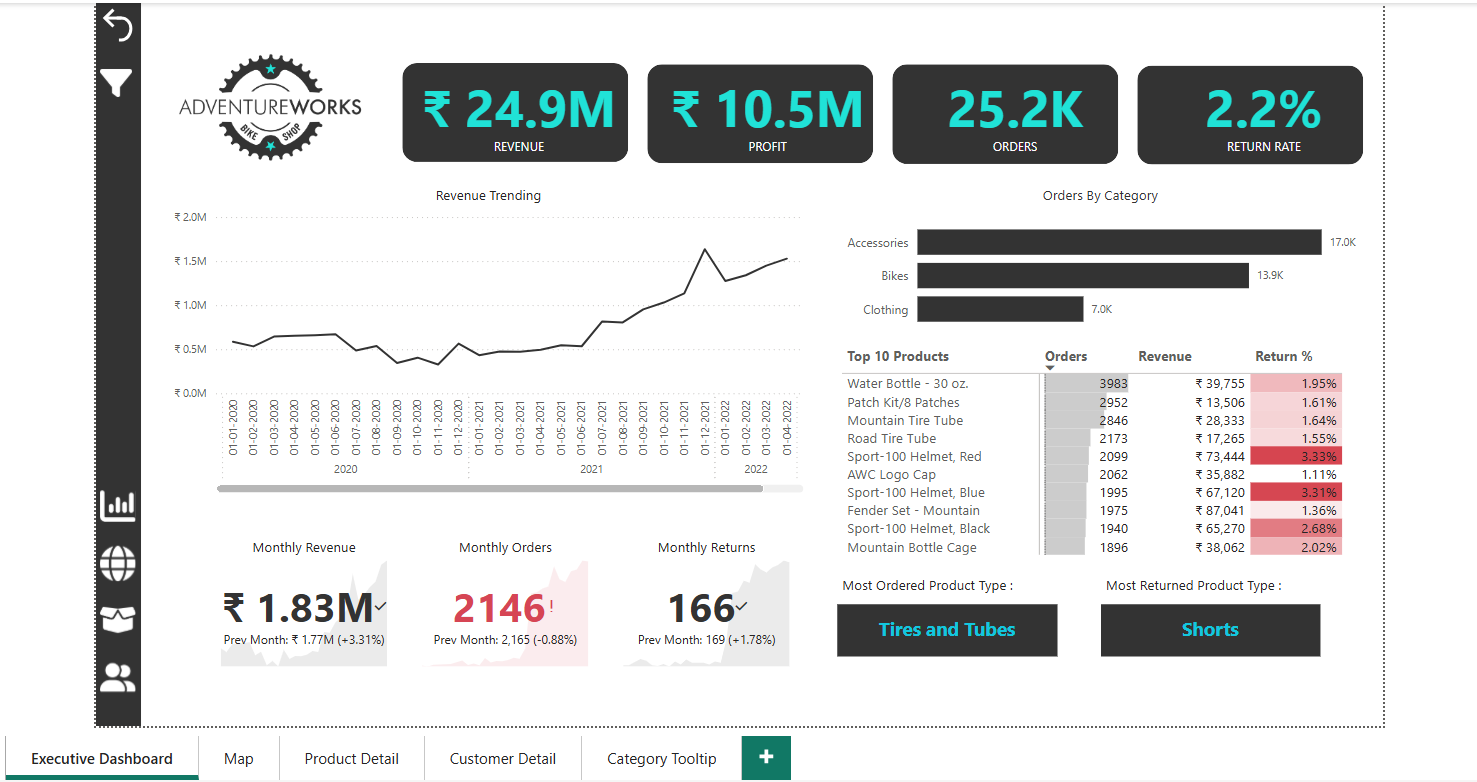

The dashboard page shown, as its layout file describes it:
{"tool":"powerbi","page":{"name":"Executive Dashboard","canvas":[1280,720],"ordinal":0},"visuals":[{"type":"card","fields":{"Values":["Measure Table.Total profit"]},"box":[550.9,38.8,235,142.5],"z":0,"group":"g2"},{"type":"image","title":"AW Logo","box":[52.5,43.8,242.5,121.2],"z":0},{"type":"group","id":"g1","title":"KPI Backgrounds","box":[305.4,59.7,956.2,101.2],"z":0,"group":"g3"},{"type":"shape","box":[305.4,59.7,225,98.8],"z":0,"group":"g1"},{"type":"actionButton","box":[0,592.5,44.8,43.5],"z":0,"group":"g4"},{"type":"shape","title":"Left Nav Background","box":[0,0,45,720],"z":1000},{"type":"group","id":"g2","title":"KPI Values","box":[303.8,38.8,976.2,142.5],"z":1000,"group":"g3"},{"type":"card","fields":{"Values":["Measure Table.Total Orders"]},"box":[798,38.8,235,142.5],"z":1000,"group":"g2"},{"type":"shape","box":[549.1,60.9,225,98.8],"z":1000,"group":"g1"},{"type":"actionButton","box":[0,649.3,44.8,43.5],"z":1000,"group":"g4"},{"type":"group","id":"g3","title":"KPIs","box":[303.8,38.8,976.2,142.5],"z":2000},{"type":"card","fields":{"Values":["Measure Table.Return Rate"]},"box":[1045,38.8,235,142.5],"z":2000,"group":"g2"},{"type":"shape","box":[792.8,60.7,225.2,99.5],"z":2000,"group":"g1"},{"type":"actionButton","box":[0,478.9,44.8,43.5],"z":2000,"group":"g4"},{"type":"card","fields":{"Values":["Measure Table.Total Revenue"]},"box":[303.8,38.8,235,142.5],"z":3000,"group":"g2"},{"type":"shape","box":[1036.6,62.2,225,98.8],"z":3000,"group":"g1"},{"type":"lineChart","title":"Revenue Trending","fields":{"Y":["Measure Table.Total Revenue"],"Category":["Calendar Lookup.Year","Calendar Lookup.Start of Month"]},"box":[72.1,181.6,636.9,311],"z":3000},{"type":"actionButton","box":[0,535.7,44.8,43.5],"z":3000,"group":"g4"},{"type":"kpi","title":"Monthly Revenue","fields":{"Indicator":["Measure Table.Total Revenue"],"TrendLine":["Calendar Lookup.Start of Month"],"Goal":["Measure Table.Previous Month Revenue"]},"box":[119.4,531.9,175.4,133.1],"z":4000},{"type":"kpi","title":"Monthly Orders","fields":{"Indicator":["Measure Table.Total Orders"],"Goal":["Measure Table.Previous Month Orders"],"TrendLine":["Calendar Lookup.Start of Month"]},"box":[319.7,531.9,175.4,133.1],"z":5000},{"type":"kpi","title":"Monthly Returns","fields":{"TrendLine":["Calendar Lookup.Start of Month"],"Indicator":["Measure Table.Total Returns"],"Goal":["Measure Table.Previous Month Returns"]},"box":[520,531.9,175.4,133.1],"z":6000},{"type":"clusteredBarChart","title":"Orders By Category","fields":{"Category":["Product Categories Lookup.CategoryName"],"Y":["Measure Table.Total Orders"]},"box":[737.7,181.6,523.7,155.5],"z":7000},{"type":"pivotTable","fields":{"Rows":["Product Lookup.ProductName"],"Values":["Measure Table.Total Orders","Measure Table.Total Revenue","Measure Table.Return Rate"]},"box":[737.7,337.1,523.7,217.7],"z":8000},{"type":"card","fields":{"Values":["Min(Product Subcategories Lookup.SubcategoryName)"]},"box":[737.7,598.3,218.9,52.2],"z":9000},{"type":"textbox","box":[737.7,564.8,218.9,33.6],"z":10000},{"type":"card","fields":{"Values":["Min(Product Subcategories Lookup.SubcategoryName)"]},"box":[1000.1,598.3,218,52.2],"z":11000},{"type":"textbox","box":[1000.1,564.8,217.7,33.6],"z":12000},{"type":"actionButton","box":[0,0,44.8,43.5],"z":13000},{"type":"group","id":"g4","title":"Navigation Buttons","box":[0,478.9,44.8,214],"z":14000},{"type":"actionButton","box":[0,59.7,44.8,39.8],"z":15000}]}

Visuals, with their boxes on the page's 1280x720 design canvas (x1, y1, x2, y2). These are canvas units, not pixel positions in the 1477x782 screenshot, which may show the page scaled, cropped or inside an application window:
card - Measure Table.Total profit: crop(551, 39, 786, 181)
"AW Logo" image: crop(52, 44, 295, 165)
"KPI Backgrounds" group: crop(305, 60, 1262, 161)
shape: crop(305, 60, 530, 158)
actionButton: crop(0, 592, 45, 636)
"Left Nav Background" shape: crop(0, 0, 45, 720)
"KPI Values" group: crop(304, 39, 1280, 181)
card - Measure Table.Total Orders: crop(798, 39, 1033, 181)
shape: crop(549, 61, 774, 160)
actionButton: crop(0, 649, 45, 693)
"KPIs" group: crop(304, 39, 1280, 181)
card - Measure Table.Return Rate: crop(1045, 39, 1280, 181)
shape: crop(793, 61, 1018, 160)
actionButton: crop(0, 479, 45, 522)
card - Measure Table.Total Revenue: crop(304, 39, 539, 181)
shape: crop(1037, 62, 1262, 161)
"Revenue Trending" lineChart: crop(72, 182, 709, 493)
actionButton: crop(0, 536, 45, 579)
"Monthly Revenue" kpi: crop(119, 532, 295, 665)
"Monthly Orders" kpi: crop(320, 532, 495, 665)
"Monthly Returns" kpi: crop(520, 532, 695, 665)
"Orders By Category" clusteredBarChart: crop(738, 182, 1261, 337)
pivotTable - Product Lookup.ProductName x Measure Table.Total Orders: crop(738, 337, 1261, 555)
card - Min(Product Subcategories Lookup.SubcategoryName): crop(738, 598, 957, 650)
textbox: crop(738, 565, 957, 598)
card - Min(Product Subcategories Lookup.SubcategoryName): crop(1000, 598, 1218, 650)
textbox: crop(1000, 565, 1218, 598)
actionButton: crop(0, 0, 45, 44)
"Navigation Buttons" group: crop(0, 479, 45, 693)
actionButton: crop(0, 60, 45, 100)
